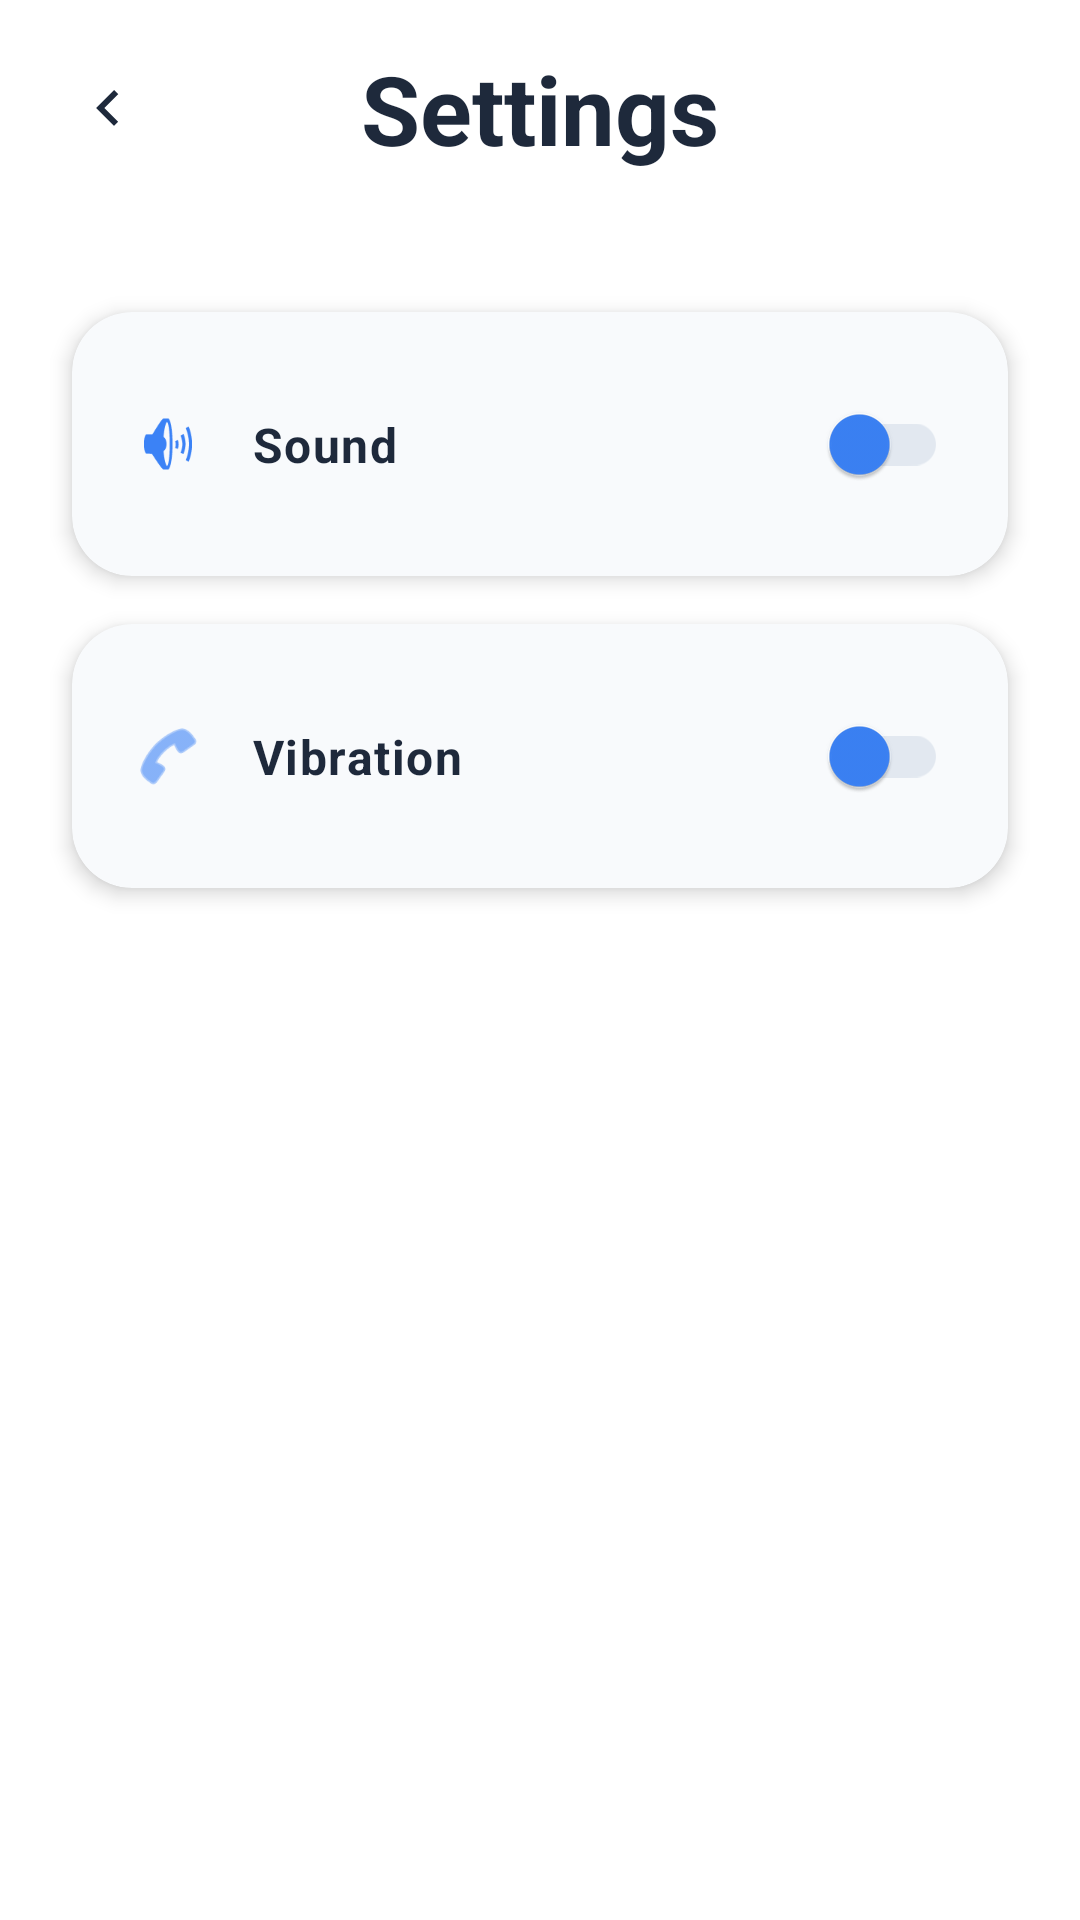

Icon bounding boxes for this 1080×1920 phone screenshot, format (x1, y1, x2, y2):
Back: (96, 90, 118, 126)
